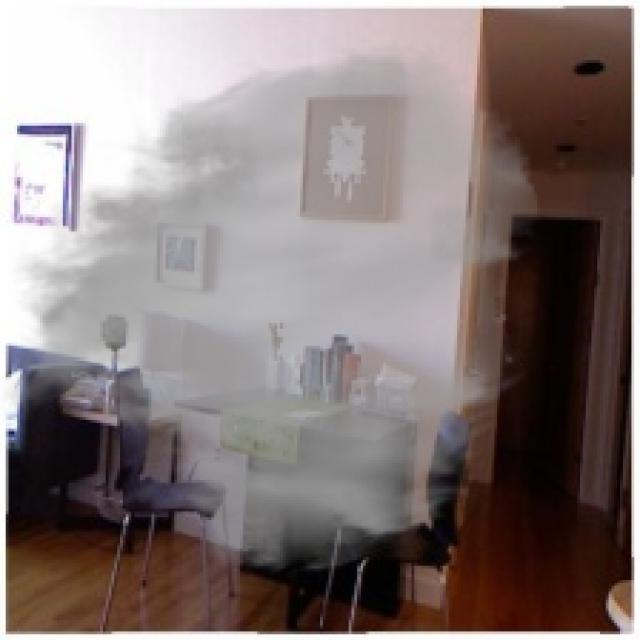Smoke: (0, 40, 543, 577)
